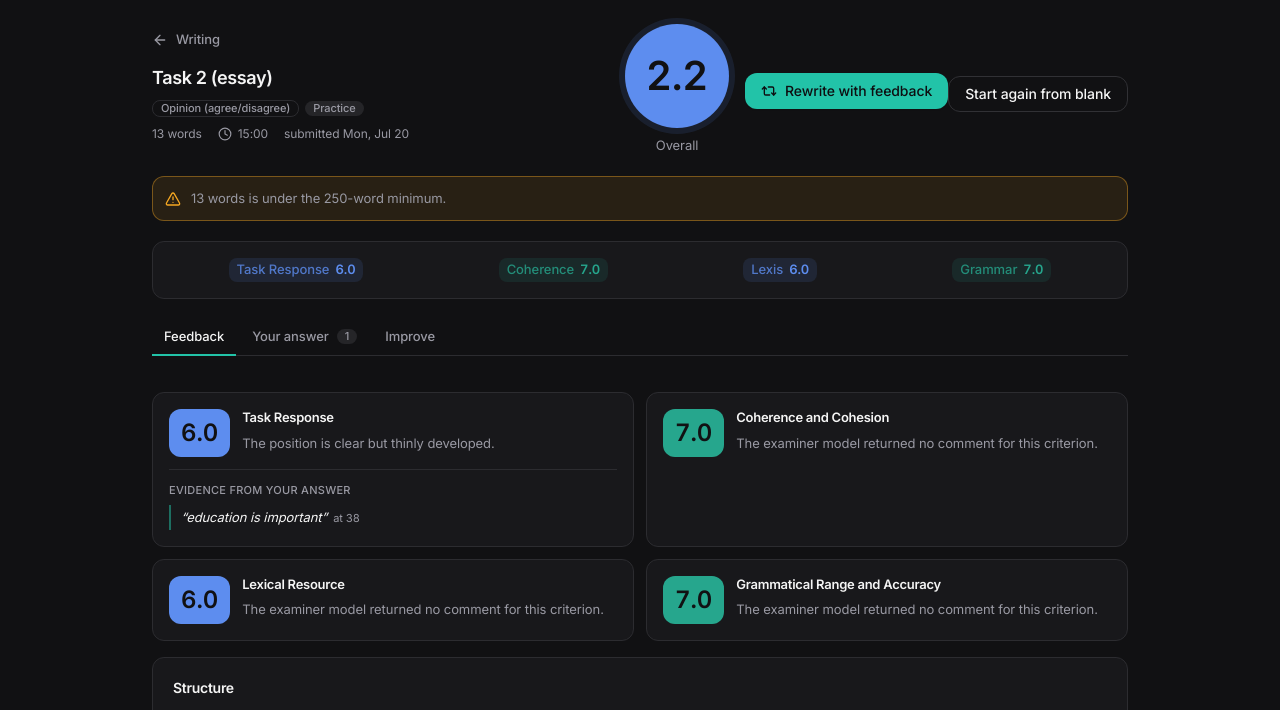
AttemptReport › offers vocabulary upgrades and the model-answer outline
Click the tab "Improve": (410, 337) [373,318,447,356]
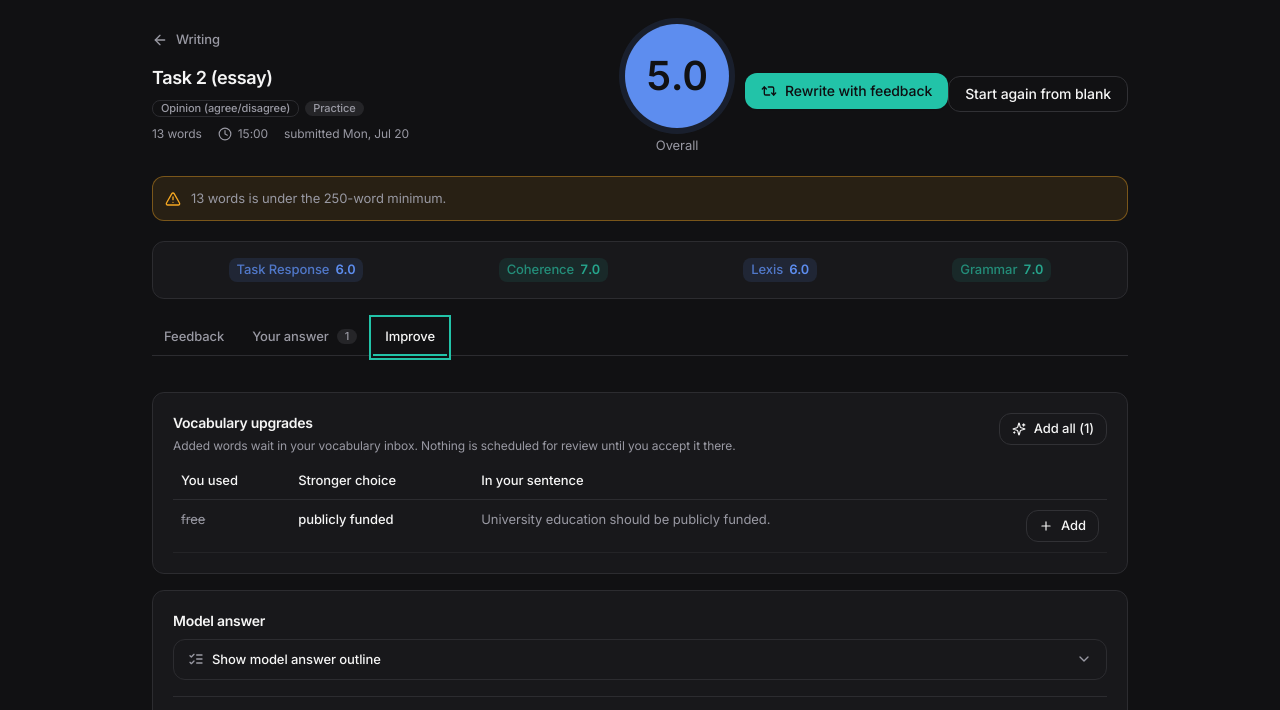
Check: the text "publicly funded" is shown, box [290,499,473,552]
Click the button "Show model answer outline": (296, 658) [174,640,1106,679]
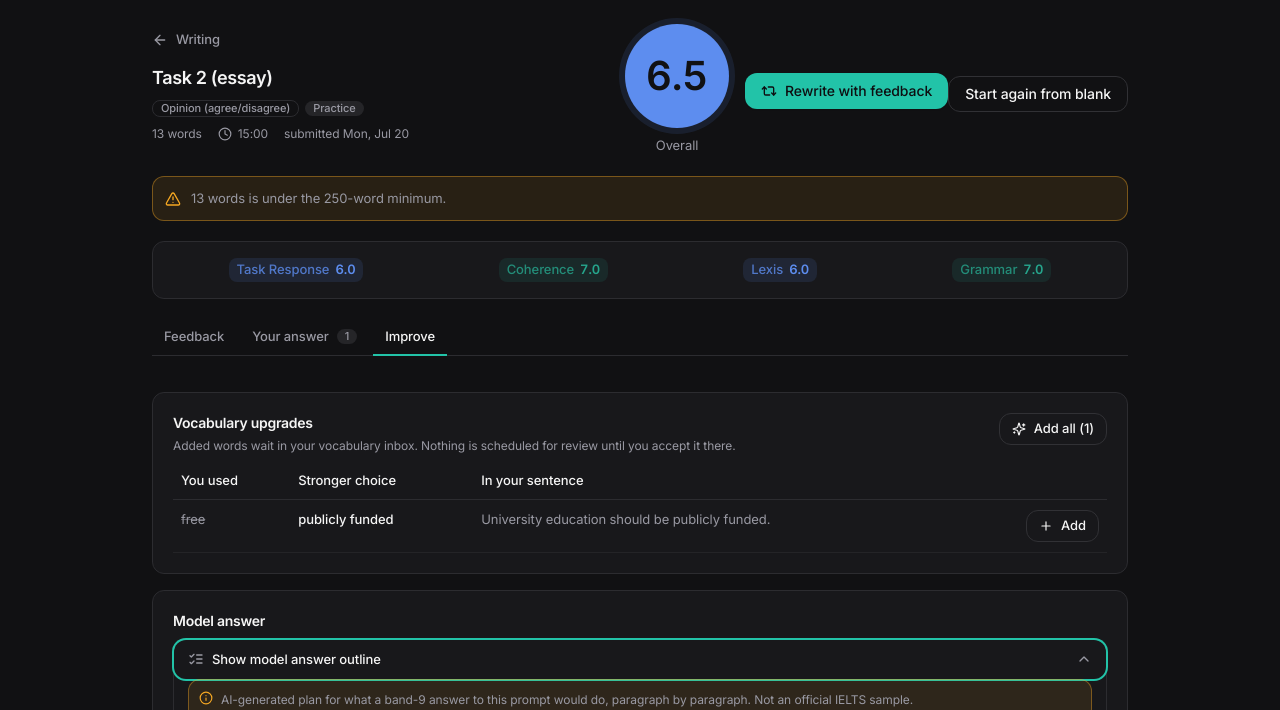
Check: the text "AI-generated plan" is shown, box [221,692,913,707]
